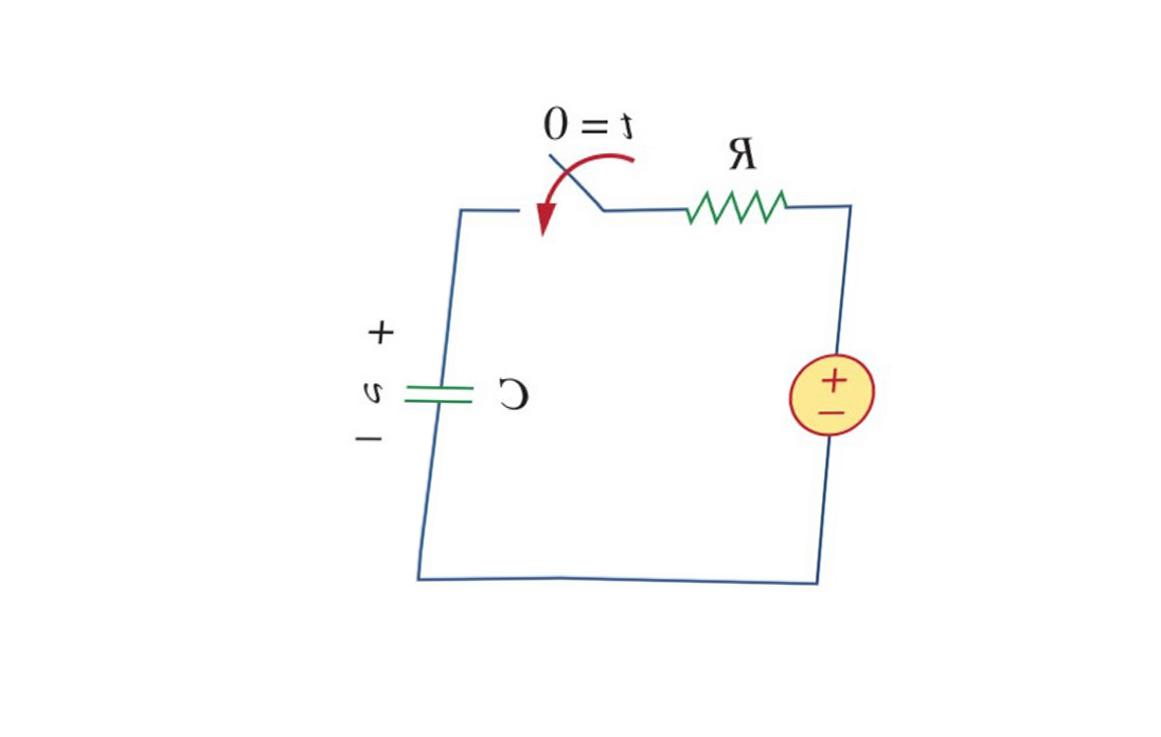Battery: (762, 336, 893, 479)
